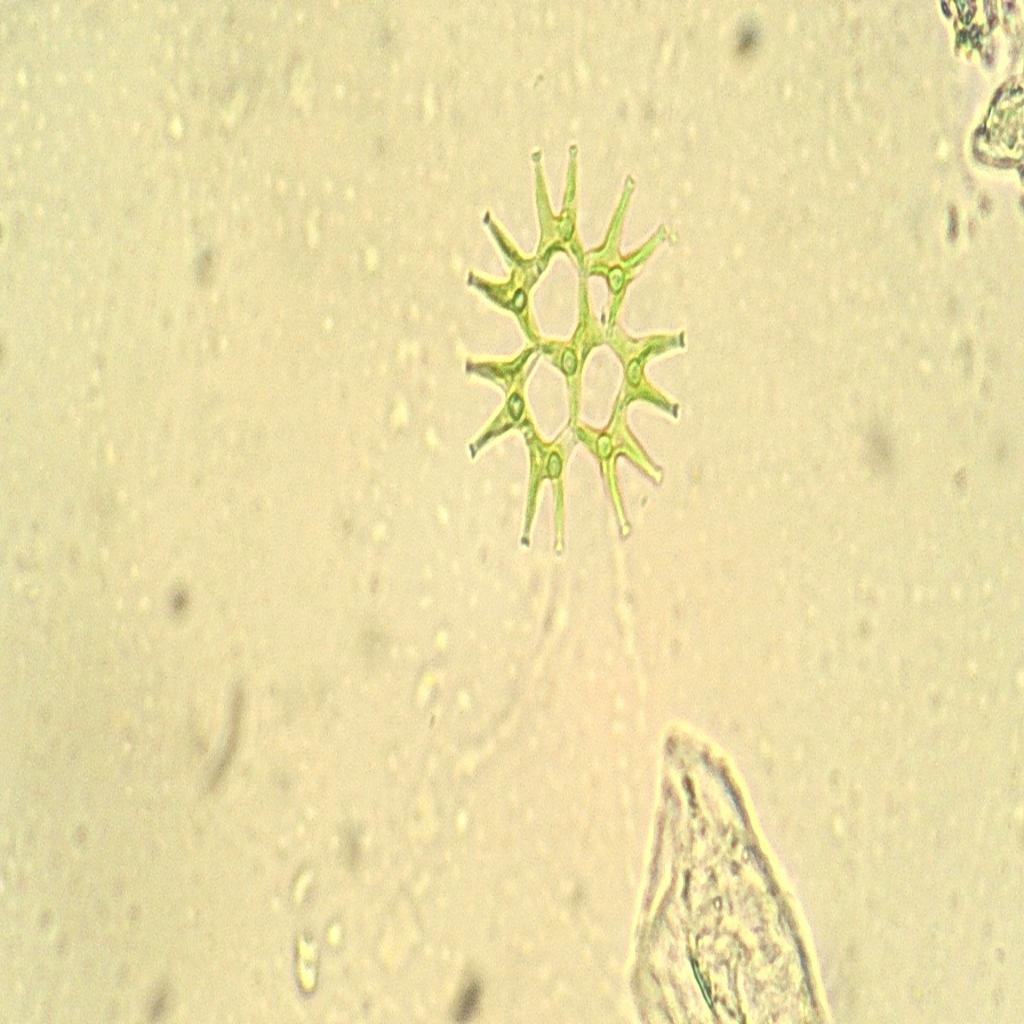Pediastrum_75T: (444, 108, 698, 592)
